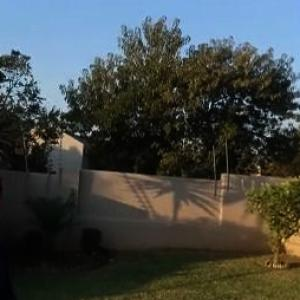follow: (0, 159, 26, 299)
